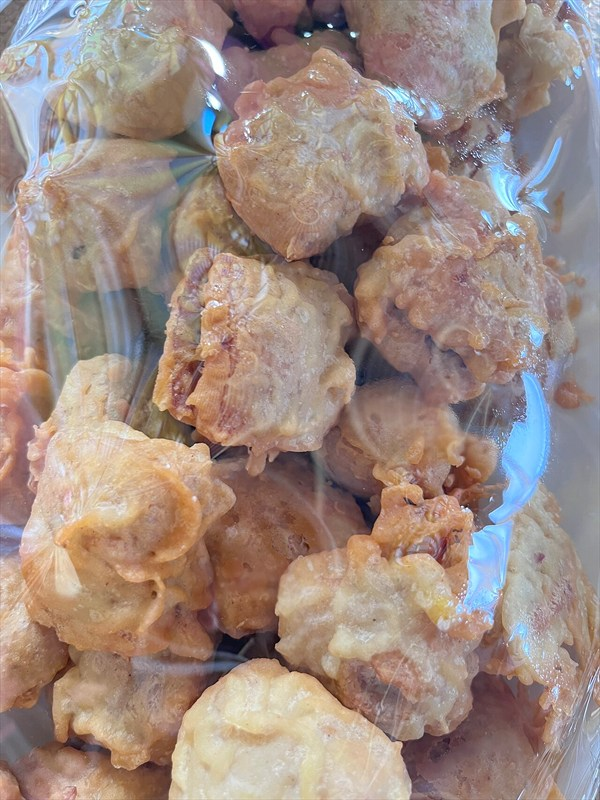Tahu Goreng: (43, 19, 535, 768)
